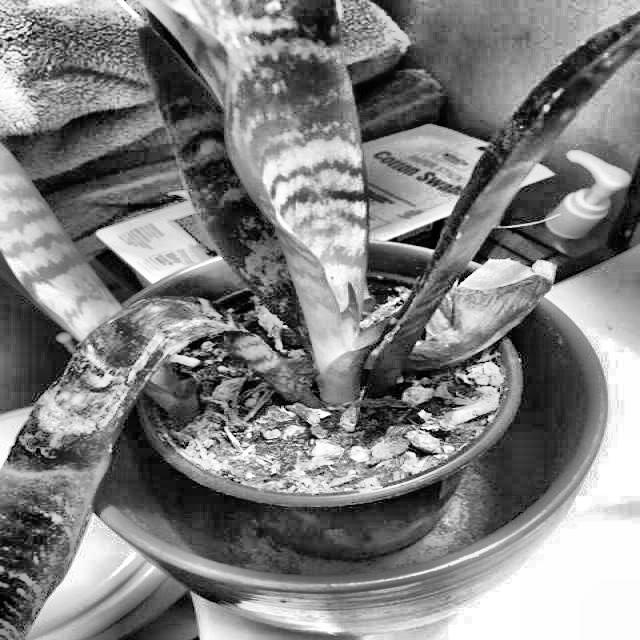plants: (5, 0, 639, 639), (29, 287, 236, 488), (408, 264, 564, 408)
